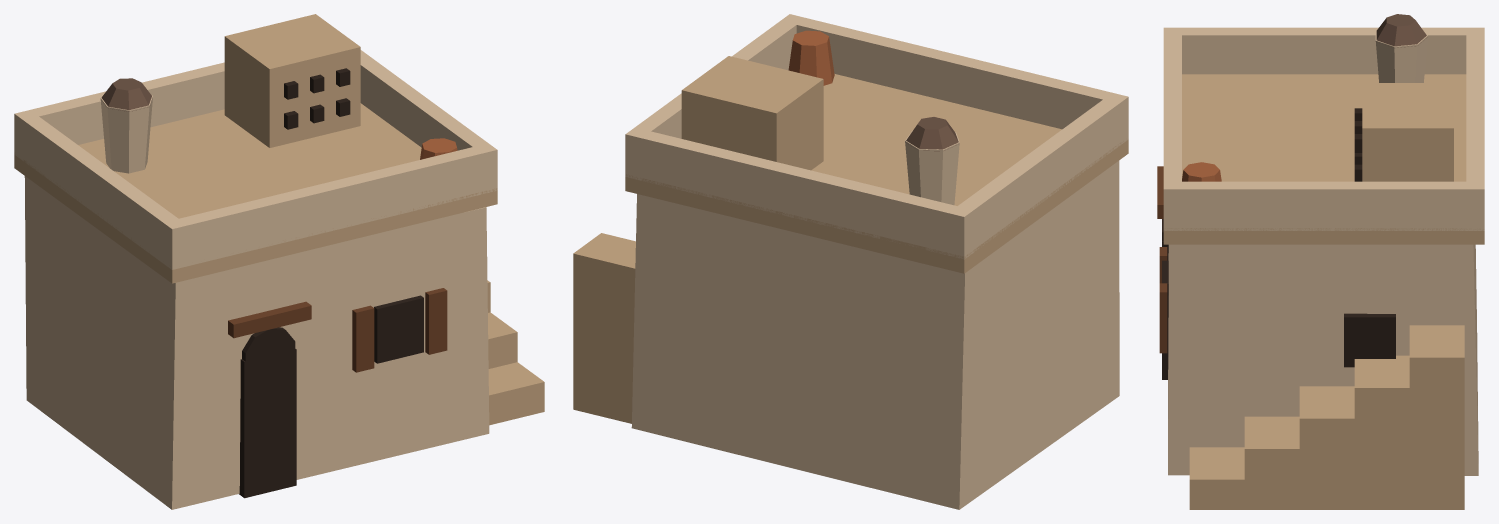
Rendered from cave_house.glb.
3 renders of one model, left to right at view 1: azimuth 30°, elevation 25°; view 2: azimuth 150°, elevation 25°; view 3: azimuth 270°, elevation 25°, orthographic. The views are drawn at different scales.
Parts seen in each view (by area): view 1: cave_house; view 2: cave_house; view 3: cave_house.
Part boxes in pixels (<box>): cave_house: <box>14,14,544,509</box>; cave_house: <box>573,14,1128,509</box>; cave_house: <box>1157,14,1484,509</box>.
Bounding box in the file's own units: 2.96 × 2.41 × 2.14.
